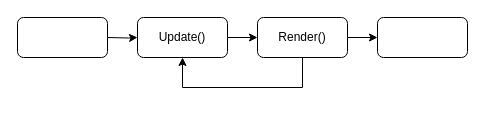
Image size: 485x113. Some labels were removed from this diagram. Here are the shapes that lost their labels. From the top down, the centre of each, then its label:
point 62,37: Init()
point 422,37: Destroy()
